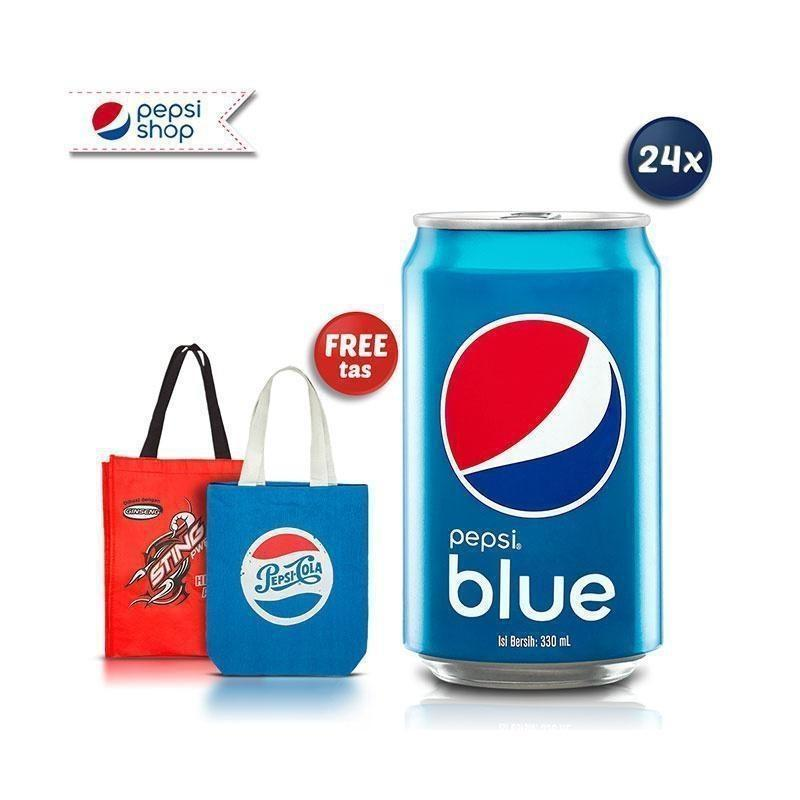tin can: (398, 204, 665, 692)
